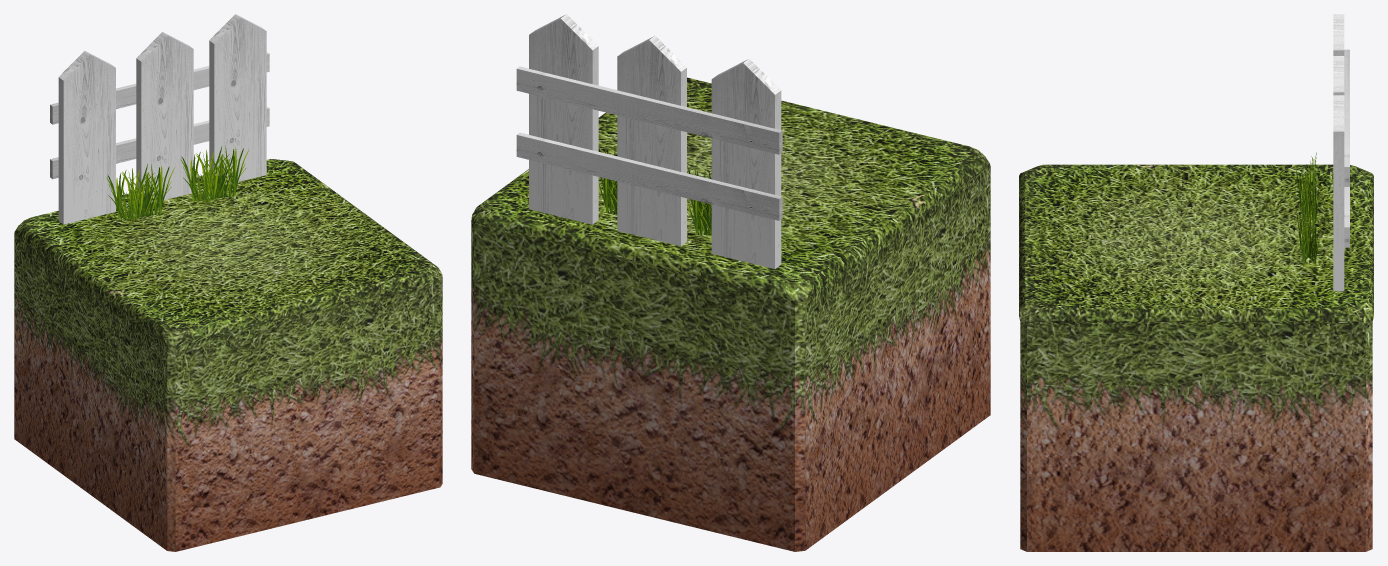
Rendered from box_mitZaun.fbx.
3 renders of one model, left to right at view 1: azimuth 30°, elevation 25°; view 2: azimuth 150°, elevation 25°; view 3: azimuth 270°, elevation 25°, orthographic. The views are drawn at different scales.
Parts seen in each view (by area): view 1: Box, Fence, Grass01, Grass02; view 2: Box, Fence, Grass01; view 3: Box, Fence, Grass02, Grass01.
Part boxes in pixels (bbox=[...]): Box: bbox=[14, 159, 442, 551]; Fence: bbox=[50, 14, 269, 224]; Grass01: bbox=[106, 164, 174, 222]; Grass02: bbox=[180, 145, 248, 204]; Box: bbox=[471, 77, 990, 551]; Fence: bbox=[516, 14, 782, 268]; Grass01: bbox=[687, 168, 711, 235]; Box: bbox=[1019, 164, 1373, 551]; Fence: bbox=[1333, 14, 1349, 291]; Grass02: bbox=[1296, 192, 1320, 266]; Grass01: bbox=[1296, 152, 1320, 223].
Size of the model in its own units: 4.02 by 5.28 by 4.02.
